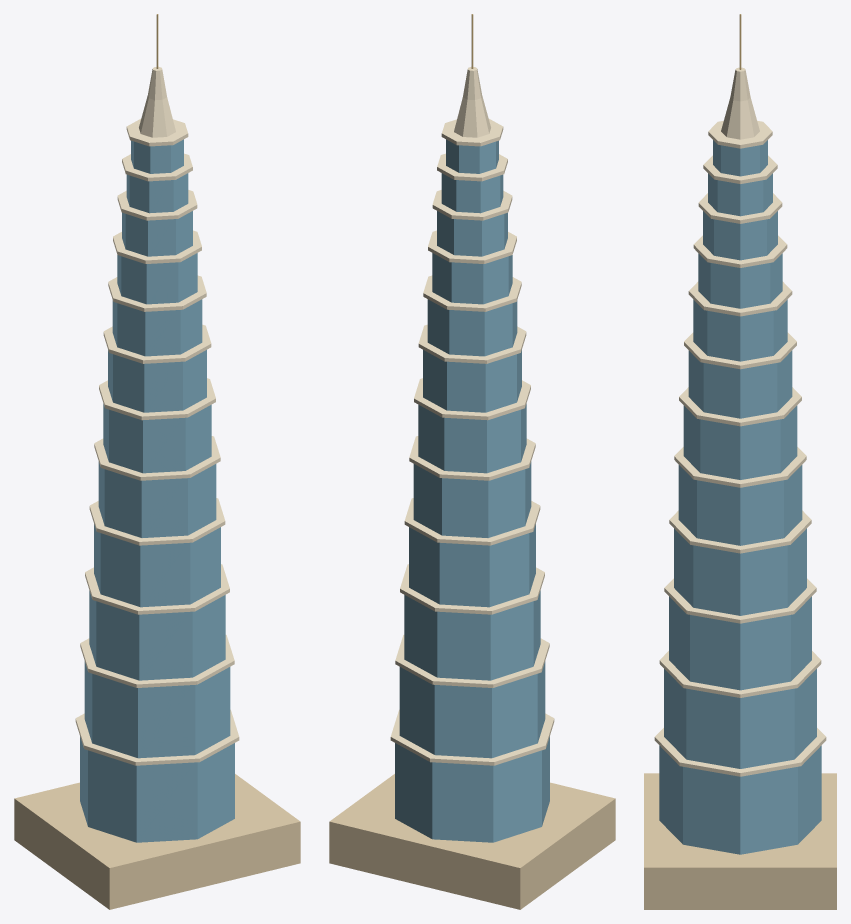
The model's file is jinmao-lod2.glb.
3 views of the same model, side by side, from view 1: azimuth 30°, elevation 25°; view 2: azimuth 150°, elevation 25°; view 3: azimuth 270°, elevation 25° (orthographic).
Visible parts, largest first — view 1: jinmao_architecture; view 2: jinmao_architecture; view 3: jinmao_architecture.
Boxes of the visible parts, bbox=[...] form: jinmao_architecture: bbox=[14, 14, 300, 909]; jinmao_architecture: bbox=[329, 14, 615, 909]; jinmao_architecture: bbox=[644, 14, 836, 909].
Size of the model in its own units: 22 by 92.18 by 19.
